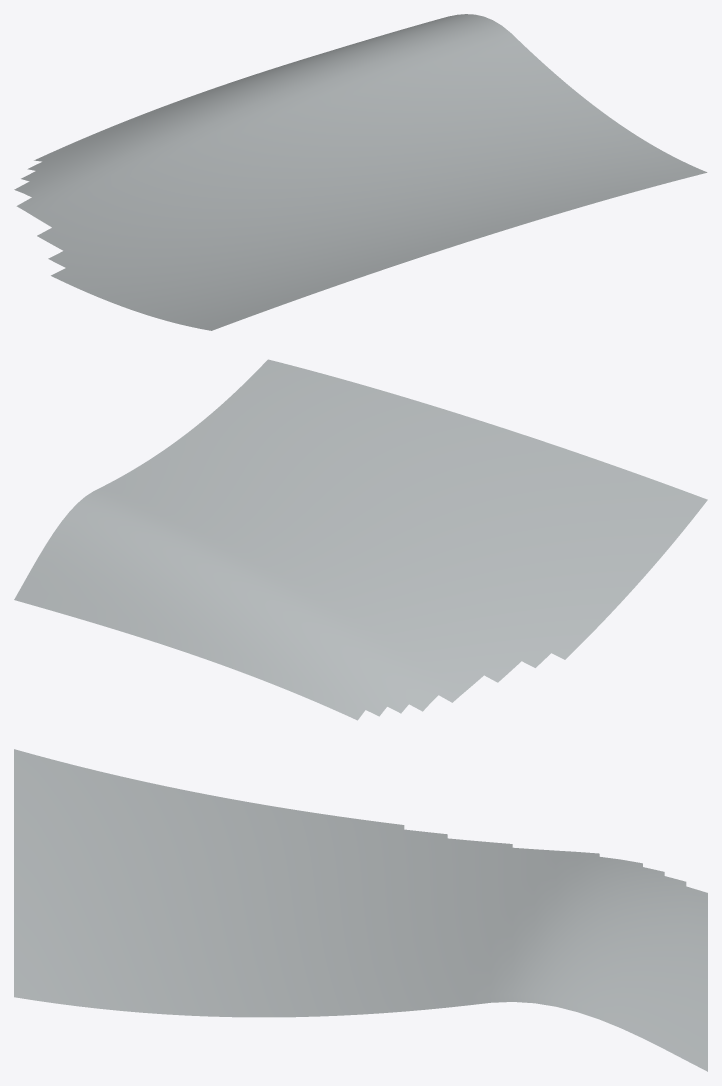
The model's file is alpine-8-3.glb.
3 renders of one model, top to bottom at view 1: azimuth 30°, elevation 25°; view 2: azimuth 150°, elevation 25°; view 3: azimuth 270°, elevation 25°, orthographic. The views are drawn at different scales.
Parts seen in each view (by area): view 1: alpine-8-3; view 2: alpine-8-3; view 3: alpine-8-3.
Part boxes in pixels (x1,y1,x2,y2): alpine-8-3: [14, 14, 707, 330]; alpine-8-3: [14, 359, 707, 720]; alpine-8-3: [14, 749, 707, 1071].
Size of the model in its own units: 256 by 50.82 by 256.
1 material, 1 textured.
